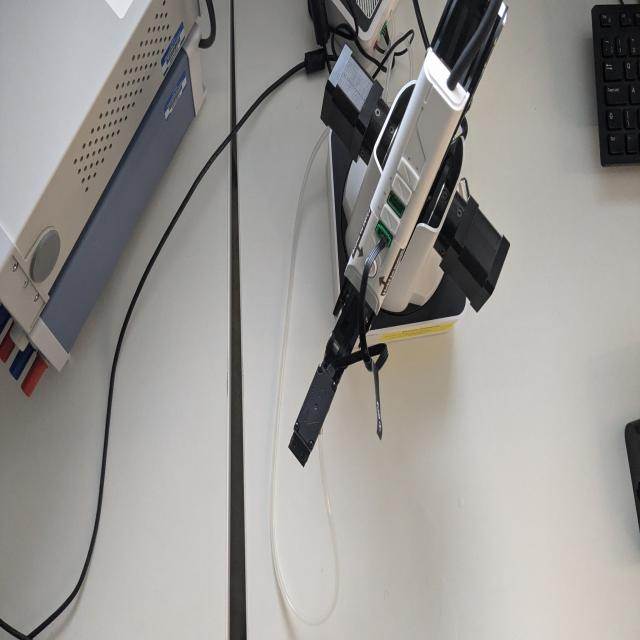Robot-end-effector-HF8z: (287, 360, 338, 470)
